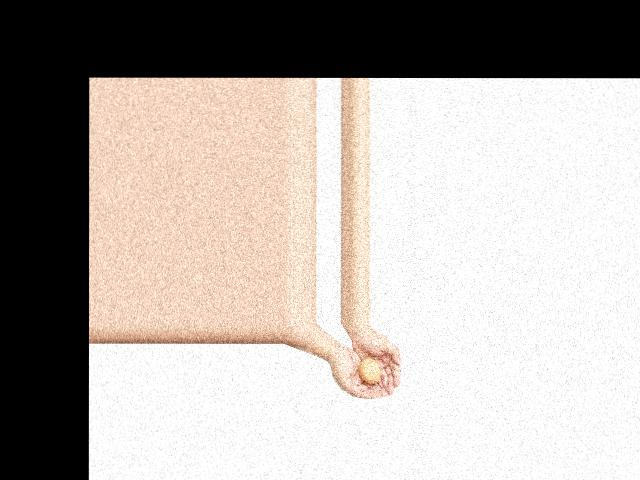egg: (358, 358, 379, 382)
